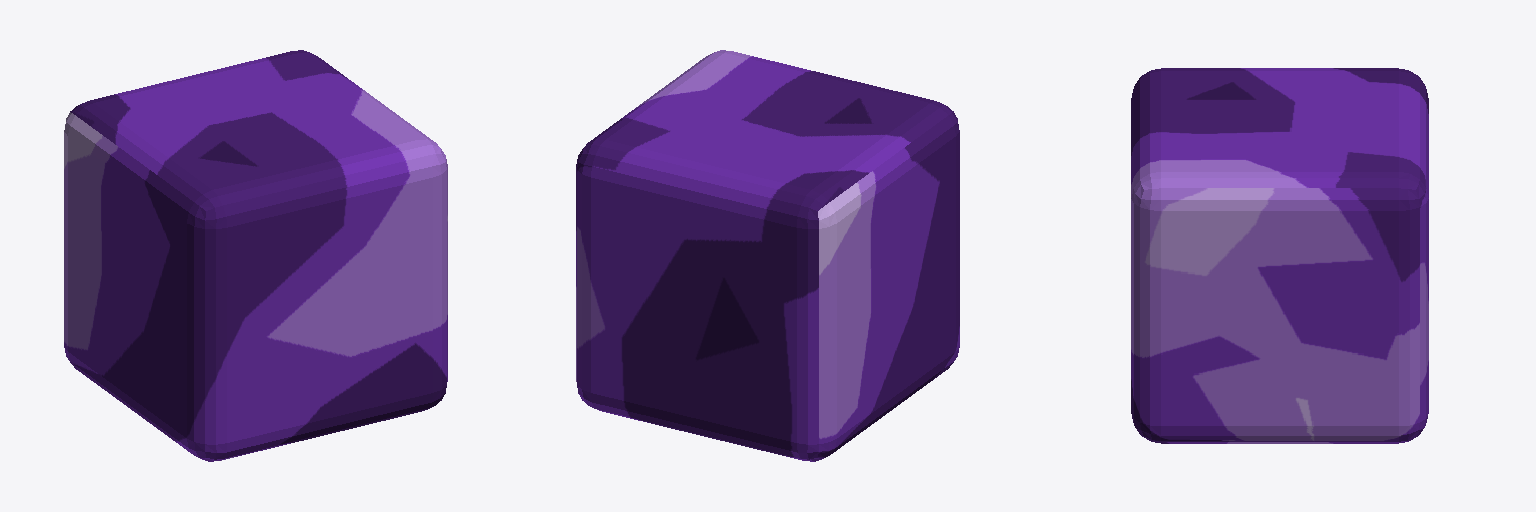
3 renders of one model, left to right at view 1: azimuth 30°, elevation 25°; view 2: azimuth 150°, elevation 25°; view 3: azimuth 270°, elevation 25°, orthographic.
Parts seen in each view (by area): view 1: pCube1; view 2: pCube1; view 3: pCube1.
Part boxes in pixels (bbox=[...]): pCube1: bbox=[64, 50, 447, 461]; pCube1: bbox=[576, 50, 959, 461]; pCube1: bbox=[1131, 68, 1428, 443].
Size of the model in its own units: 100 by 100 by 100.
1 materials, 1 textured.